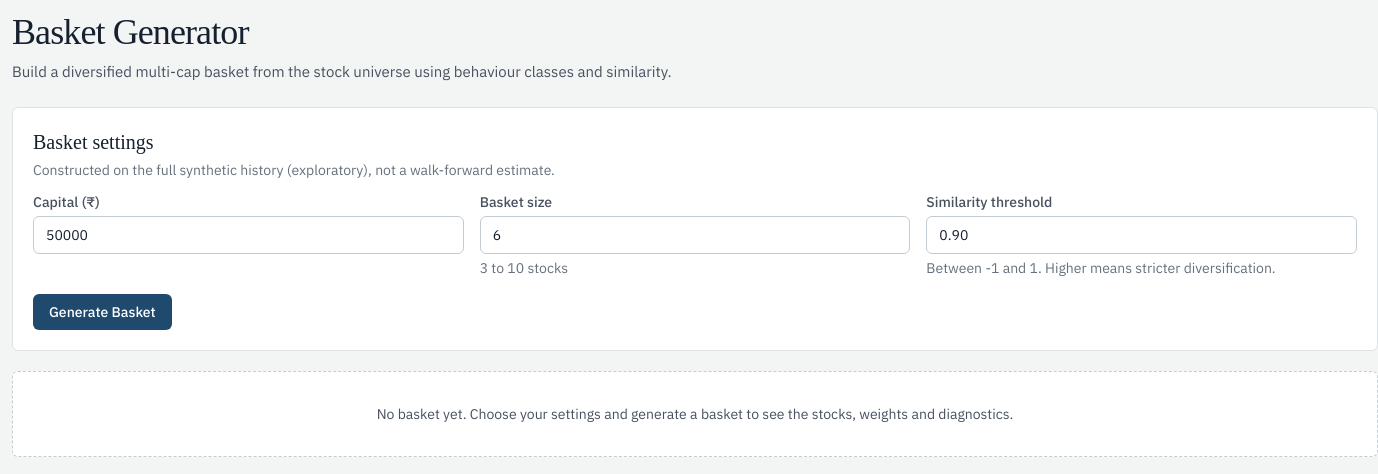
Scenario: Basket page › maps a 422 field error onto the form field
Click the button "Generate Basket": {"x": 102, "y": 312} [33, 294, 172, 330]
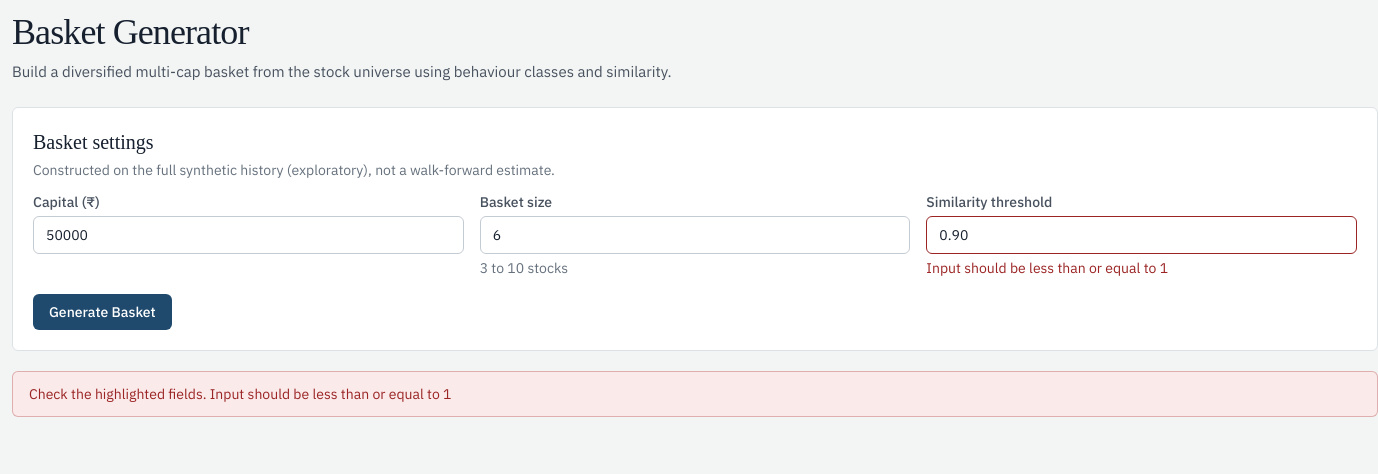
expect the text "Input should be less than or equal to 1" is shown: met, box [926, 259, 1168, 277]
